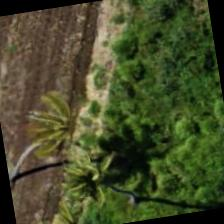Kelapa_Sawit: (16, 83, 118, 186), (47, 122, 151, 223)
